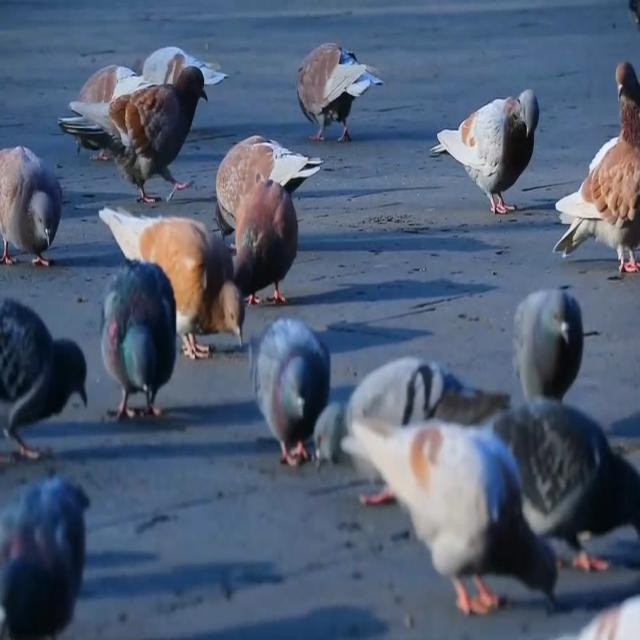bird: (339, 388, 529, 634), (452, 372, 640, 595), (82, 182, 252, 398), (45, 46, 230, 202), (415, 66, 559, 229), (0, 453, 118, 640), (232, 290, 342, 482), (552, 46, 640, 283), (308, 366, 510, 463), (97, 251, 186, 452), (502, 251, 600, 433), (282, 8, 397, 163), (0, 279, 90, 476), (208, 150, 312, 319), (195, 100, 316, 218), (60, 38, 225, 116), (0, 120, 64, 273)
